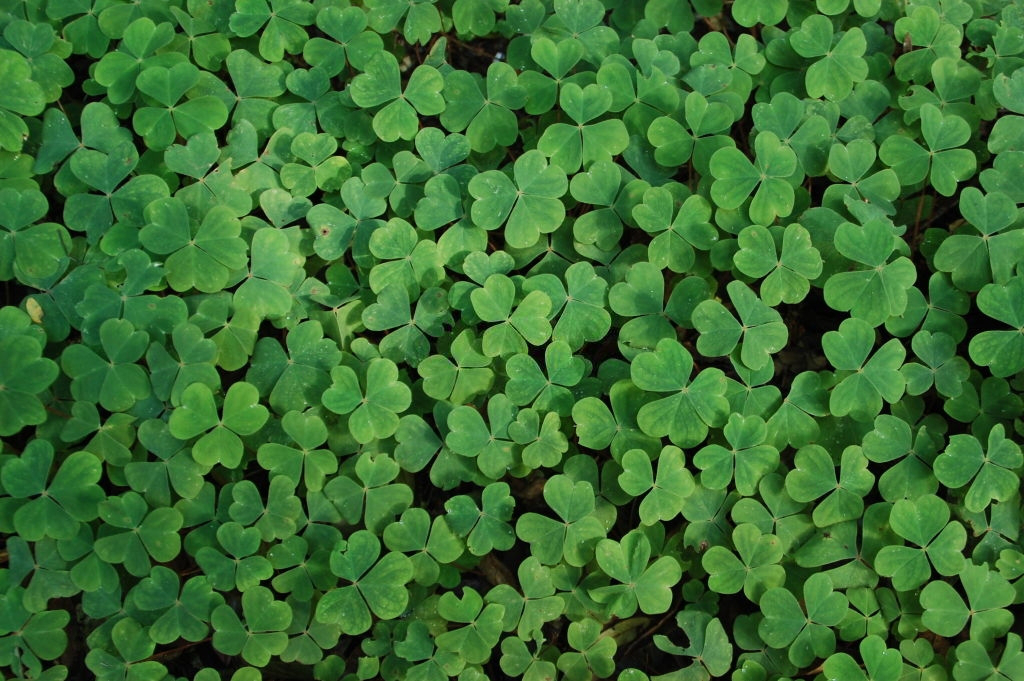clover: (14, 9, 1015, 675)
